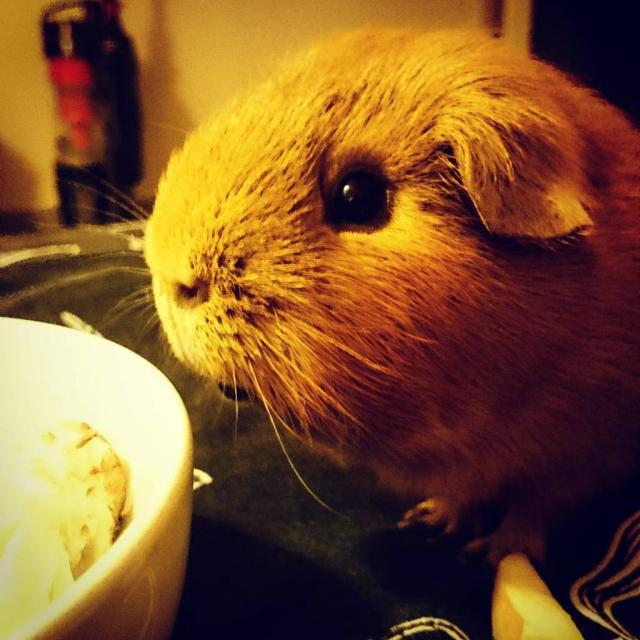rat: (26, 15, 640, 570)
